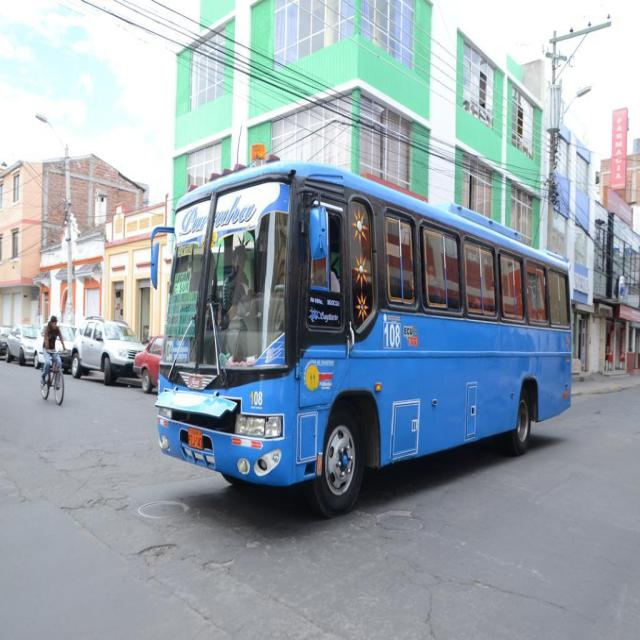BUS: (151, 165, 573, 500)
